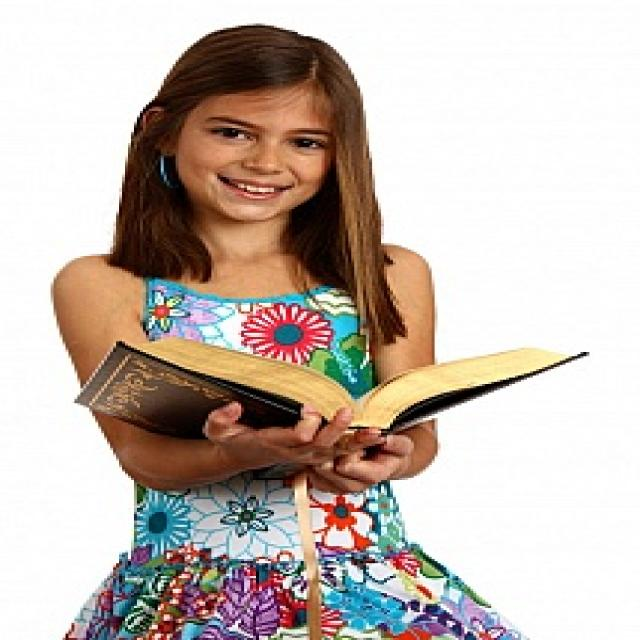Eyes: (195, 118, 332, 158)
